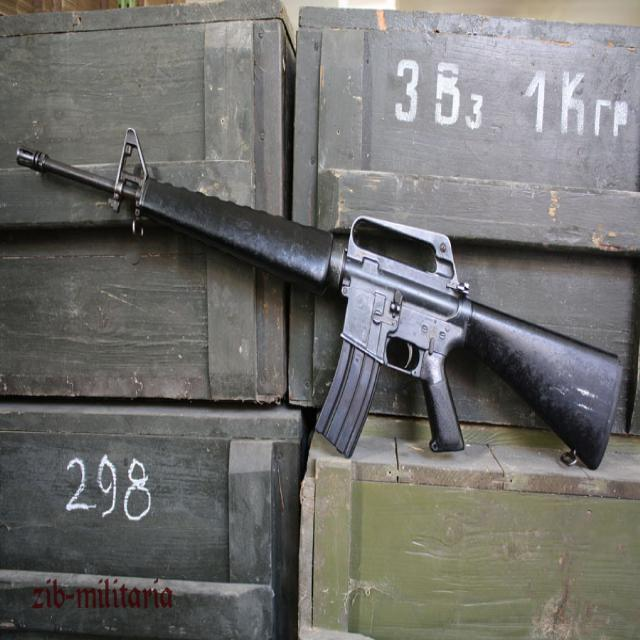weapon: (10, 123, 625, 471)
